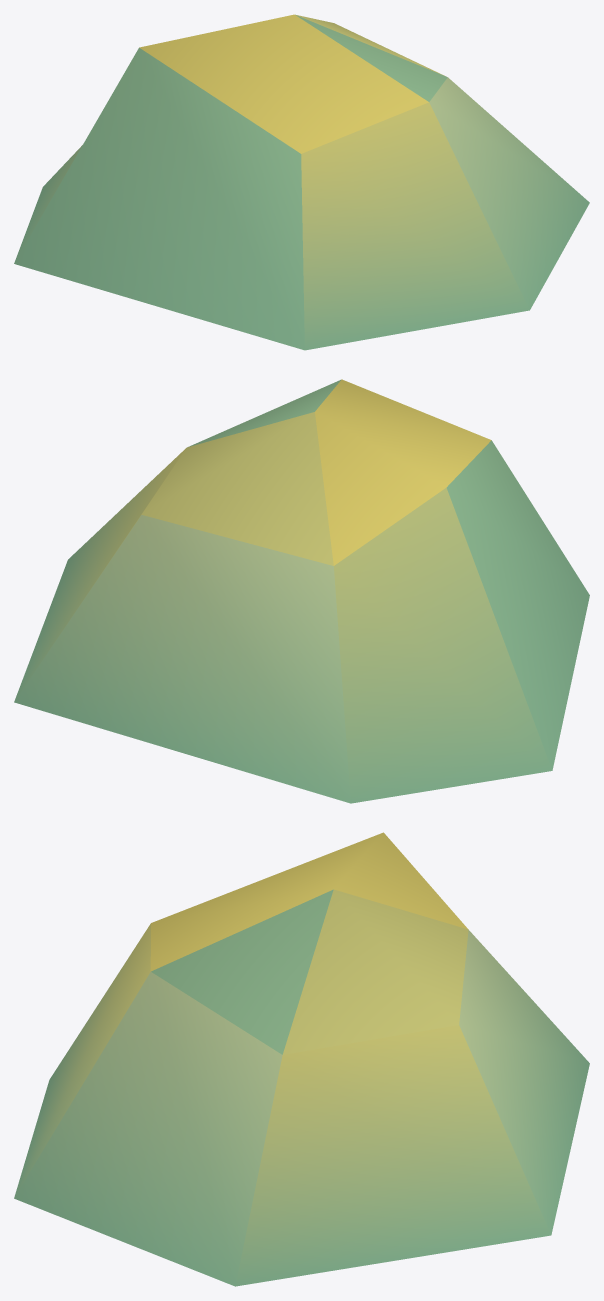
The model's file is kingcup_patch_b_far.glb.
The picture shows the model from 3 angles, top to bottom: view 1: azimuth 30°, elevation 25°; view 2: azimuth 150°, elevation 25°; view 3: azimuth 270°, elevation 25°; orthographic projection. The views are drawn at different scales.
Parts seen in each view (by area): view 1: soft; view 2: soft; view 3: soft.
Boxes of the visible parts, <box> form: soft: <box>14,14,589,350</box>; soft: <box>14,379,589,803</box>; soft: <box>14,832,589,1286</box>.
Size of the model in its own units: 0.3547 by 0.15 by 0.3084.
